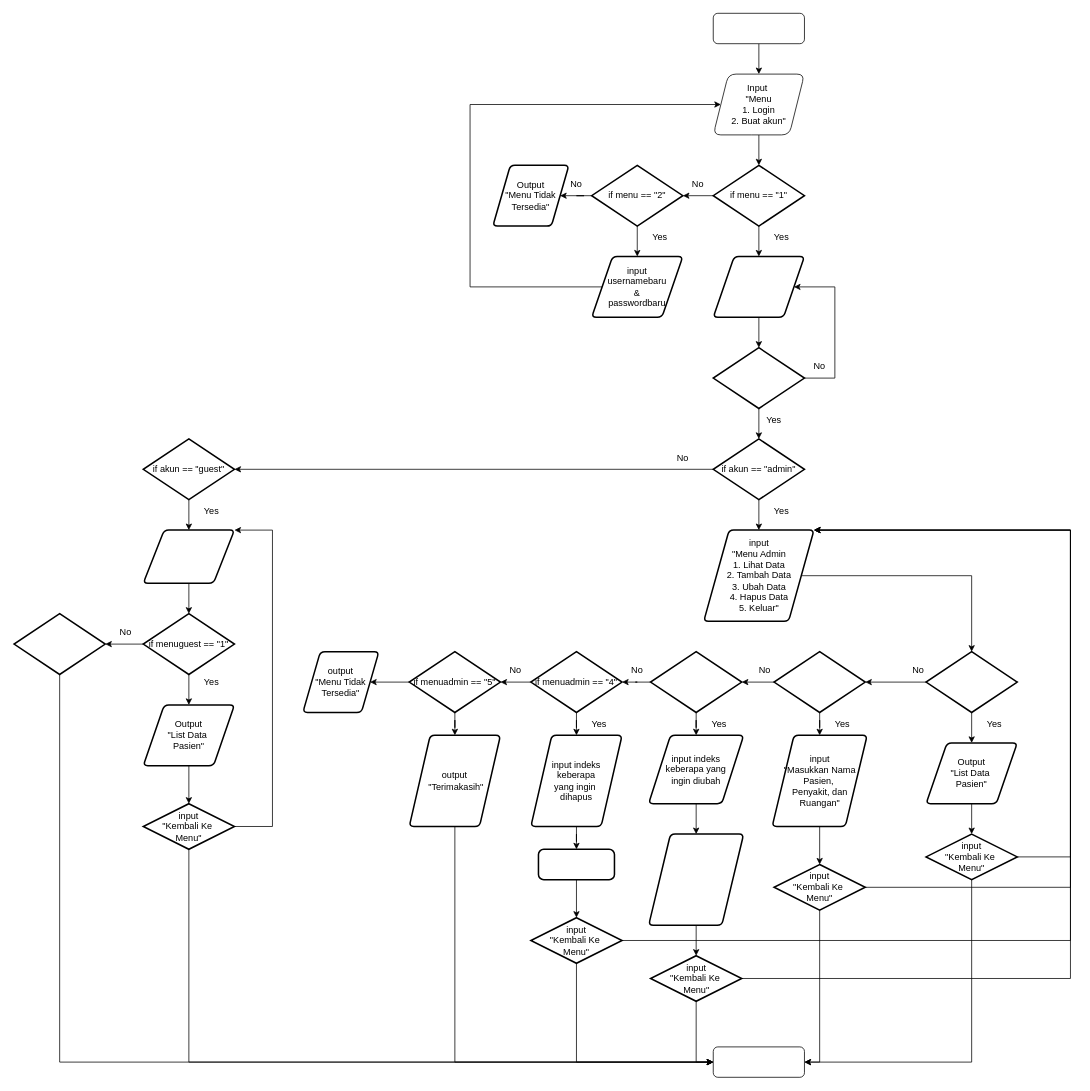
This 1090x1091 diagram has some shape labels left out. Here are the shapes that lost their labels. From the top down, the centre of each, then its label:
the point at 758,28: Main
the point at 758,286: input username & password
the point at 758,378: if username & password == true
the point at 188,556: input "Menu 1. Lihat Data 2. Keluar"
the point at 59,644: if menuguest == "2"
the point at 695,682: if menuadmin == "3"
the point at 819,682: if menuadmin == "2"
the point at 971,682: if menuadmin == "1"
the point at 576,864: Delete Indeks
the point at 696,879: input "Nama Pasien Baru, Penyakit Baru, dan Ruangan Baru
the point at 758,1061: End
